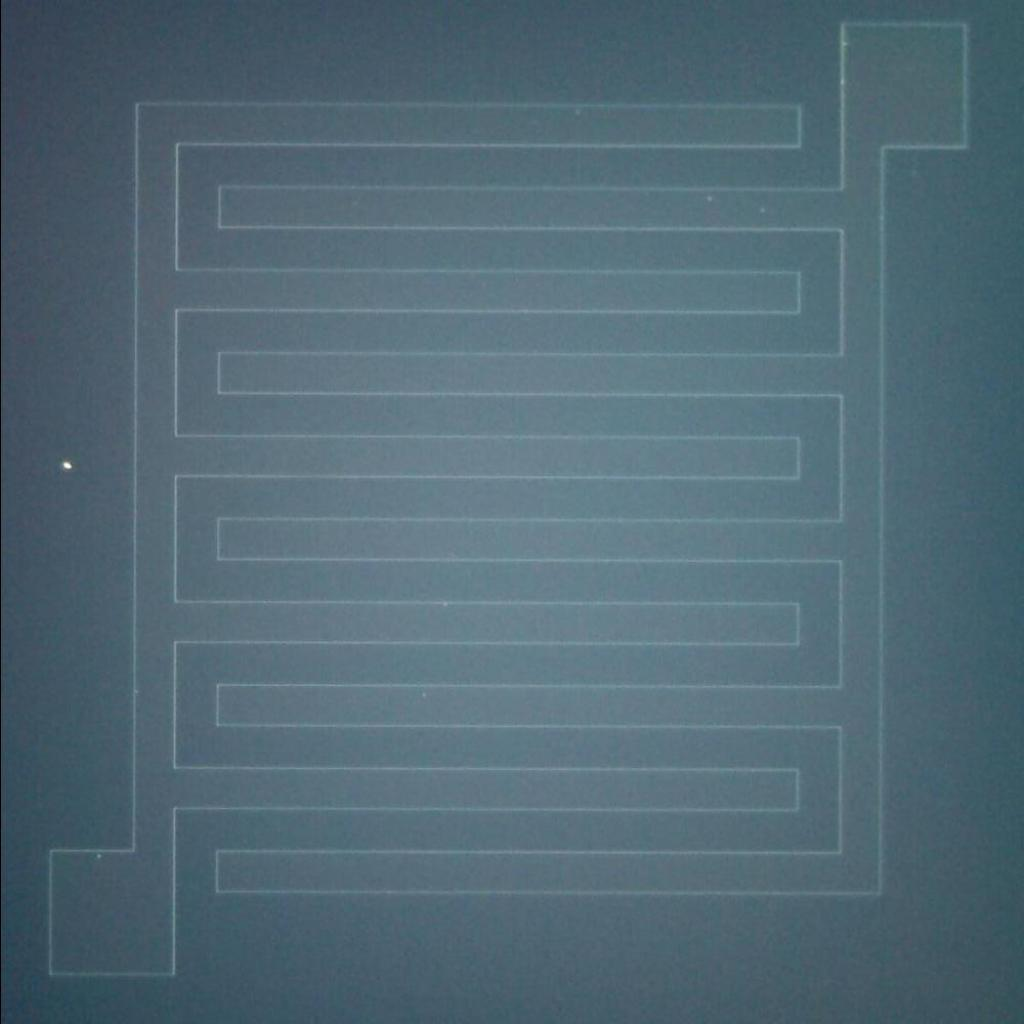dot: (52, 450, 80, 481)
